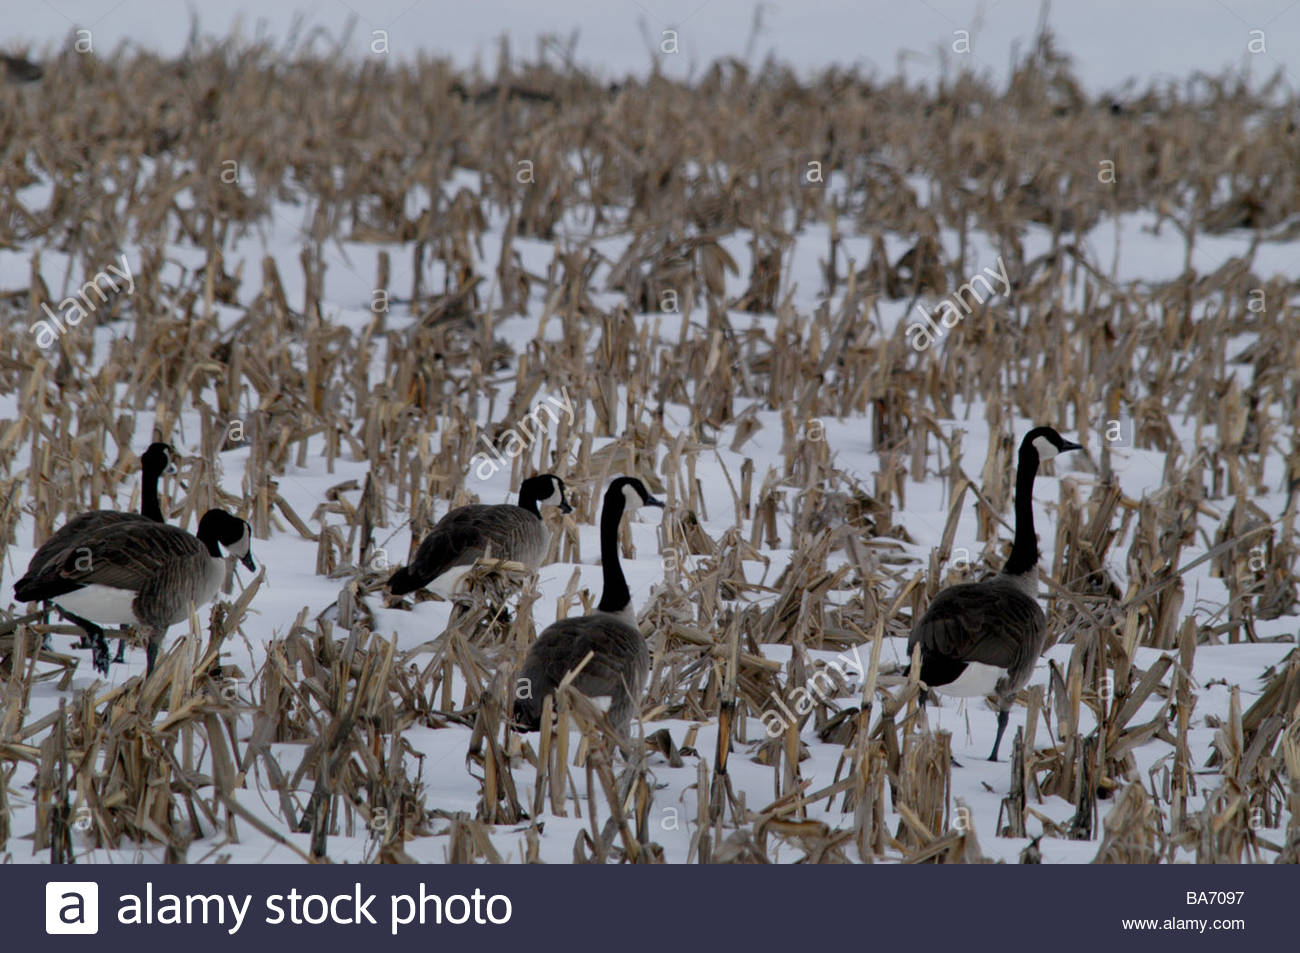goose: (892, 418, 1090, 720), (504, 462, 685, 739), (19, 501, 268, 658), (372, 468, 579, 624), (5, 436, 184, 596)
